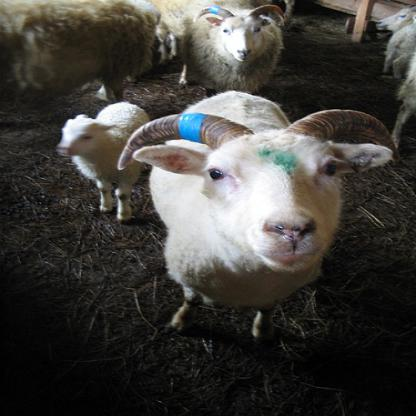sheep: (116, 90, 402, 344), (0, 0, 161, 103), (55, 102, 152, 226), (178, 0, 285, 98), (144, 0, 184, 65), (391, 52, 415, 148), (382, 23, 415, 78), (376, 5, 415, 35)
